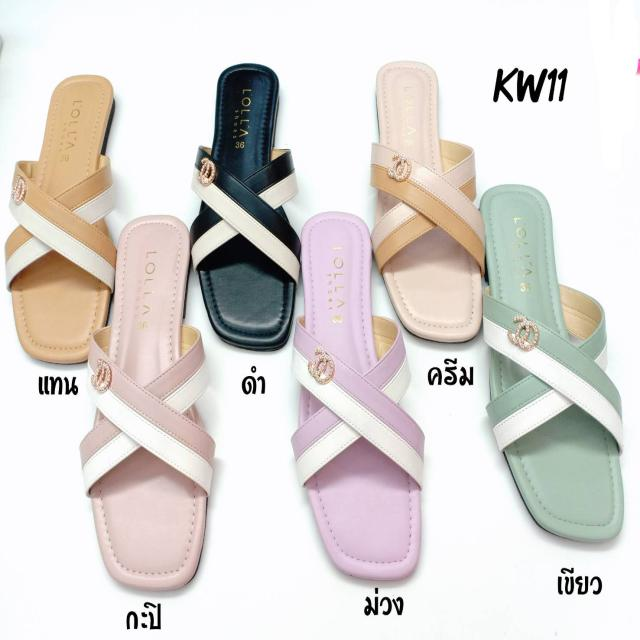black: (194, 52, 294, 346)
cream: (373, 62, 485, 348)
green: (481, 184, 623, 553)
kapi: (93, 217, 206, 585)
purple: (300, 207, 427, 582)
tan: (10, 75, 118, 358)
